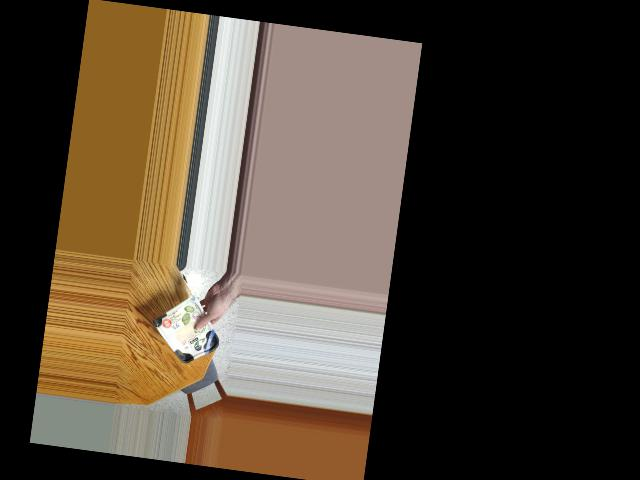cheese: (156, 303, 218, 367)
